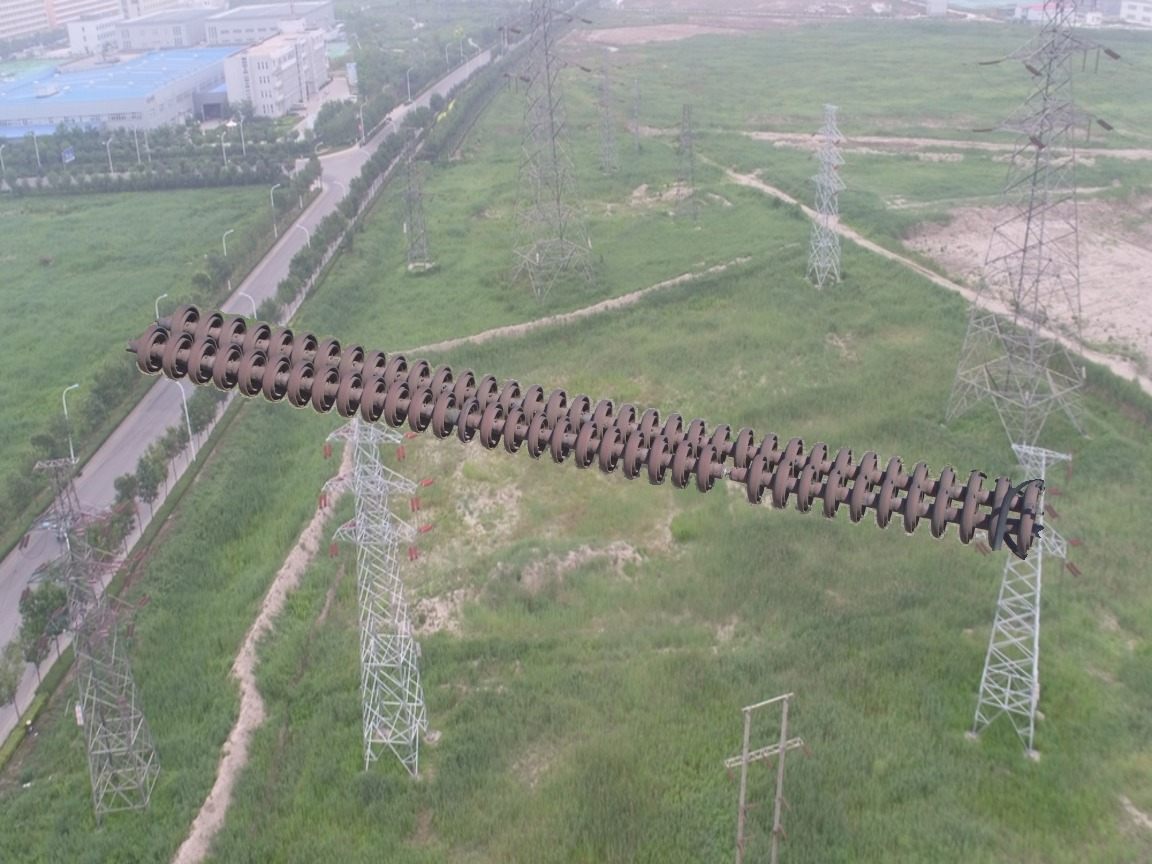defect: (681, 444, 767, 501)
